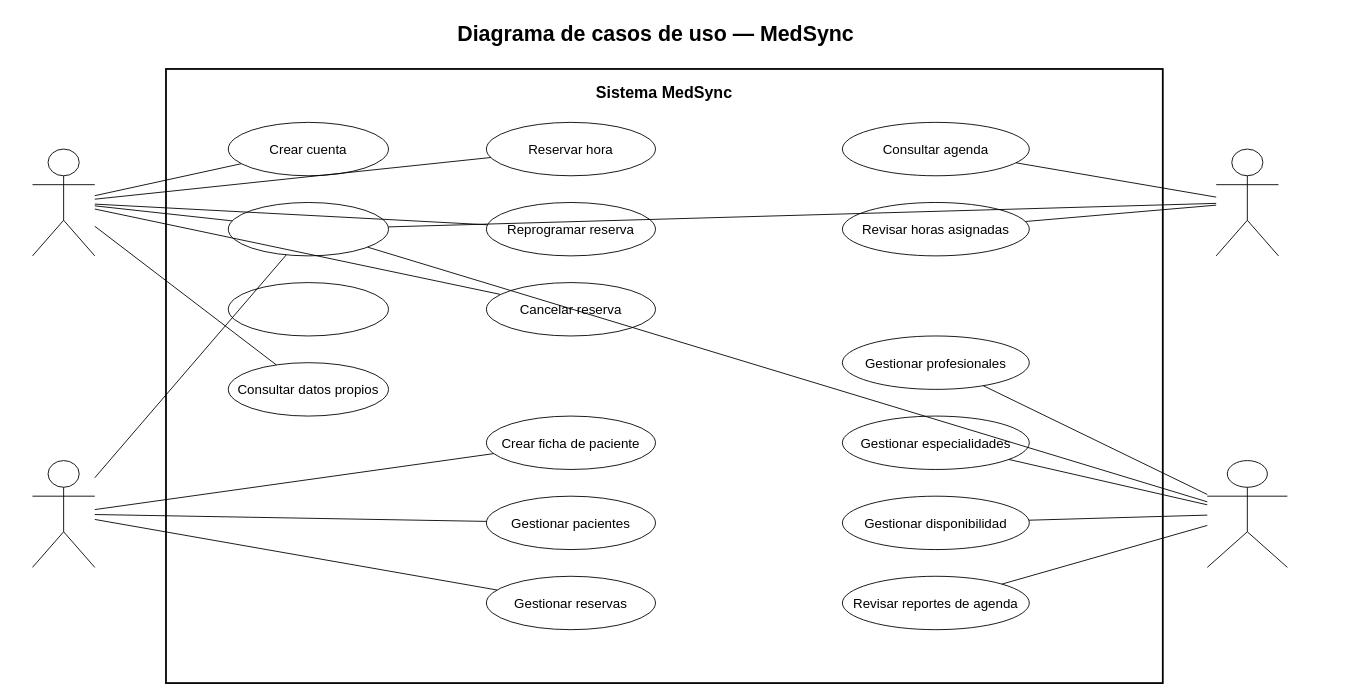
This 1345x699 diagram has some shape labels left out. The shapes that lost their labels are listed below. From the top down, each one's box as (x1, y1, x2, y2) in pixels, then its label:
(32, 148, 95, 256): Paciente
(1215, 148, 1278, 256): Profesional
(227, 202, 388, 256): Iniciar sesión
(227, 282, 388, 336): Cerrar sesión
(32, 460, 95, 567): Recepcionista
(1206, 460, 1287, 567): Administrador de centro
